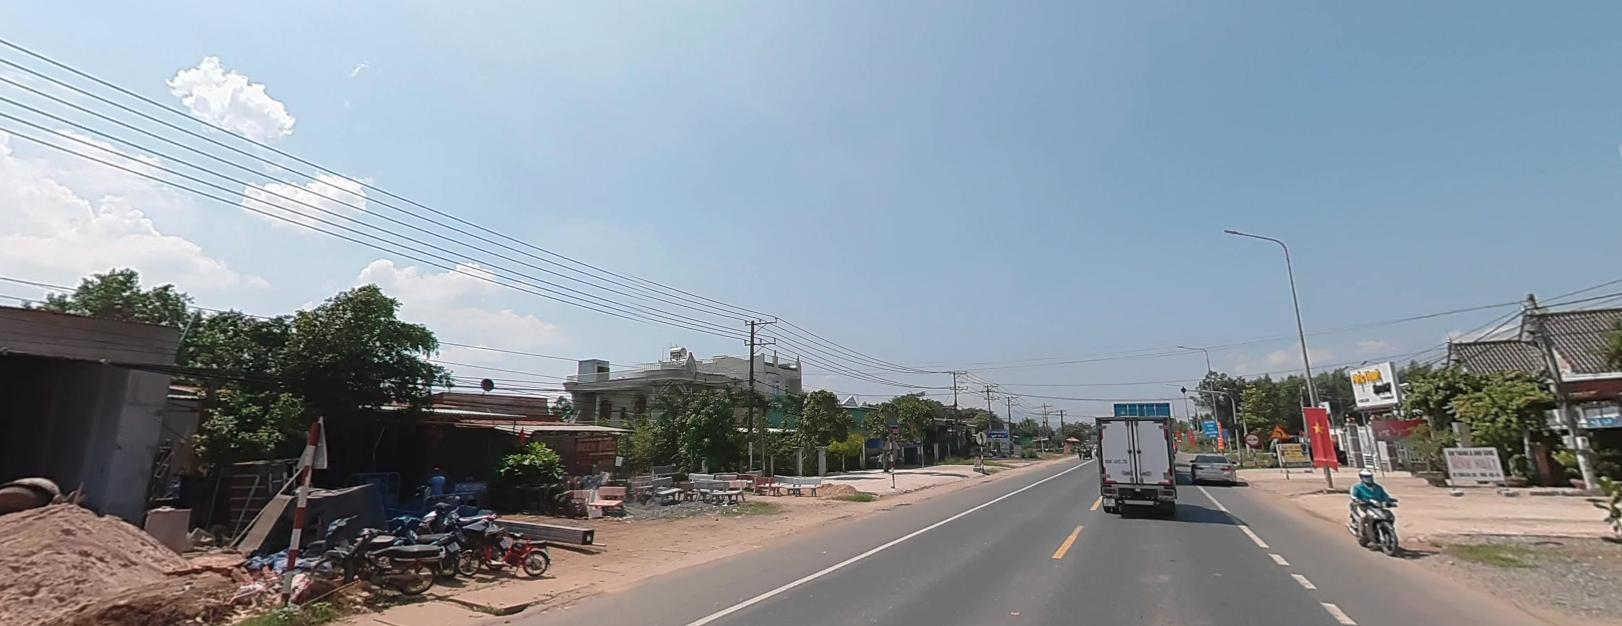Cam con lai: (1244, 431, 1261, 446)
Nguy hiem: (1271, 423, 1290, 437)
